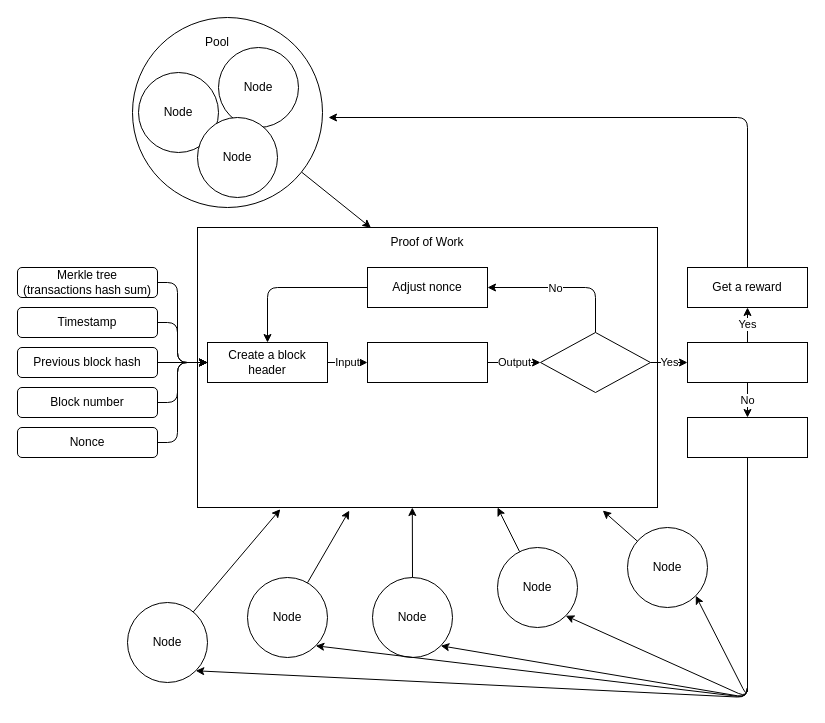
This 825x723 diagram has some shape labels left out. The centre of each missing label's shape, as x and y in pixels:
Block hash<target: the point at 595,362
Create a new block: the point at 747,362
SHA-256 algorithm: the point at 427,362
Wait for the next round: the point at 747,437
